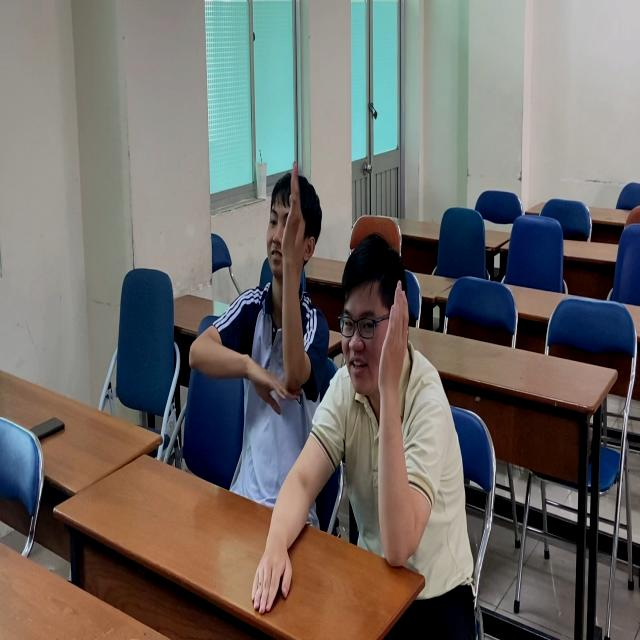raise_hand: (314, 235, 478, 590), (185, 152, 330, 536)
